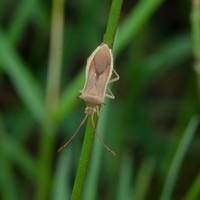insect: (57, 43, 118, 151)
